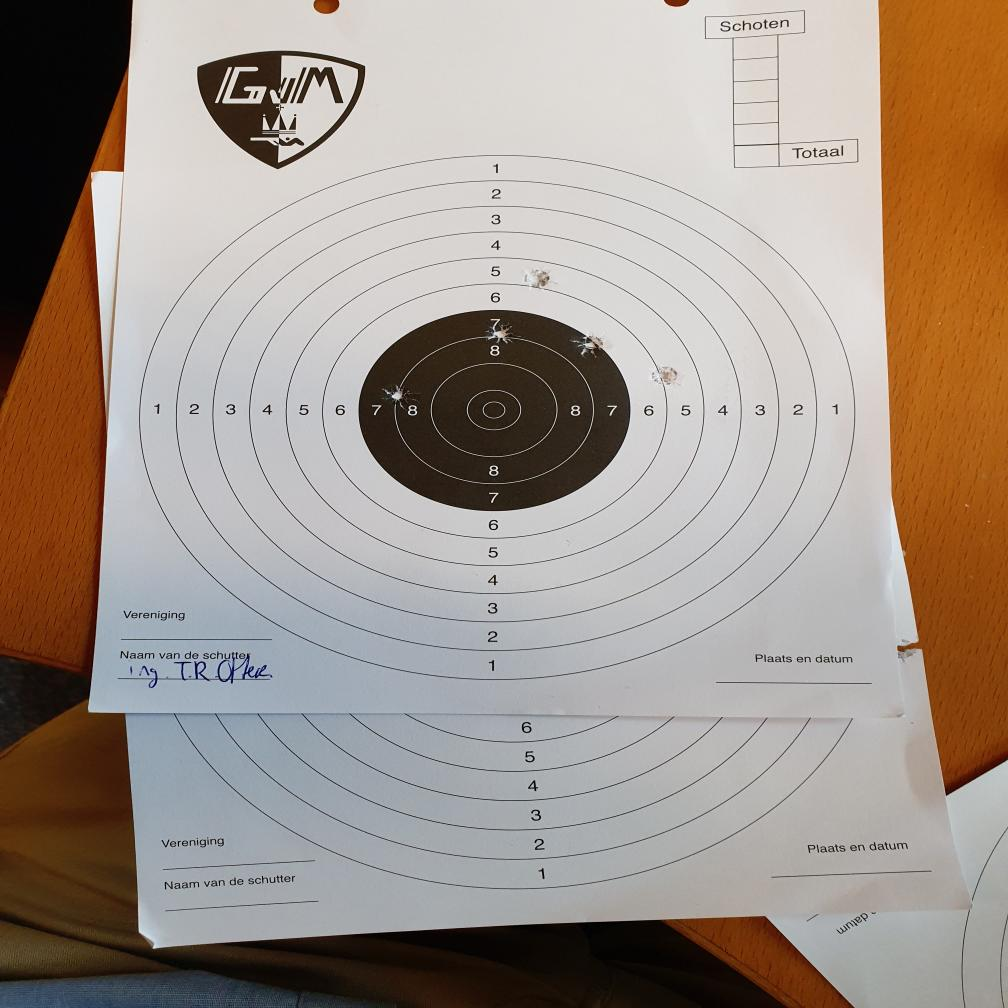6: (648, 364, 682, 390), (519, 264, 552, 289)
7: (575, 332, 611, 356)
8: (482, 321, 522, 347), (381, 380, 418, 404)
Target: (144, 153, 854, 682)
black_contour: (359, 308, 632, 512)
